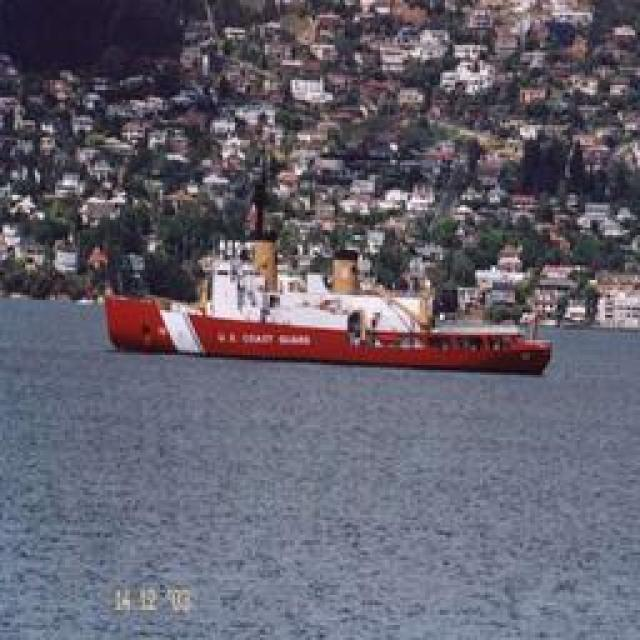CIV_Ship: (111, 274, 551, 376)
